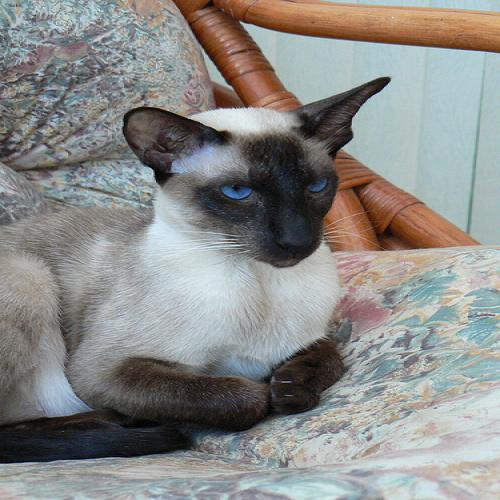siamese: (101, 62, 403, 279)
